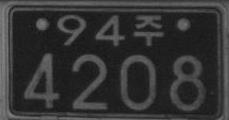0: (119, 53, 156, 110)
2: (72, 52, 108, 111)
4: (23, 52, 59, 107), (95, 14, 125, 47)
8: (169, 53, 207, 111)
9: (57, 13, 87, 46)
주: (133, 14, 164, 46)
